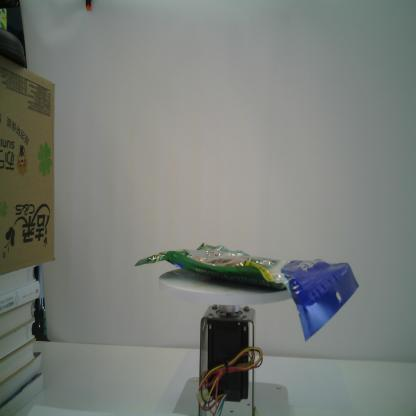Dried Food: (133, 242, 360, 341)
